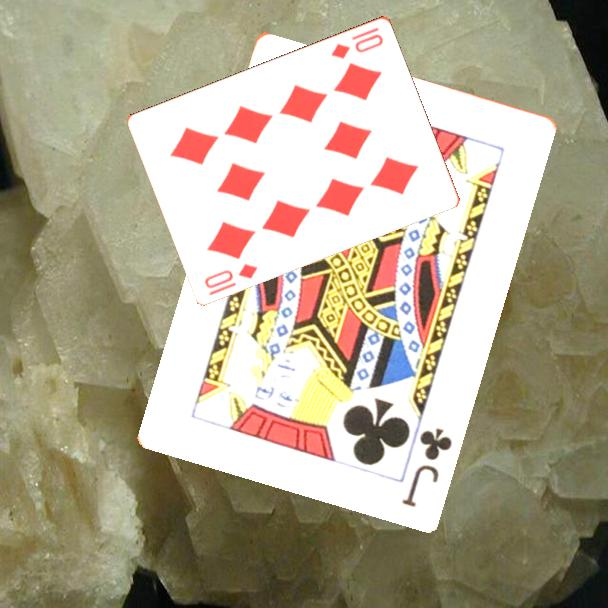c11: (398, 424, 455, 510)
d10: (201, 259, 261, 298), (327, 30, 386, 61)
